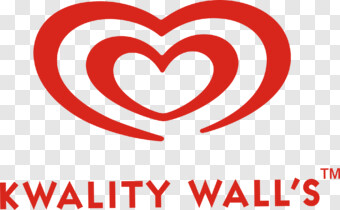Kwality_Walls: (30, 1, 293, 143)
